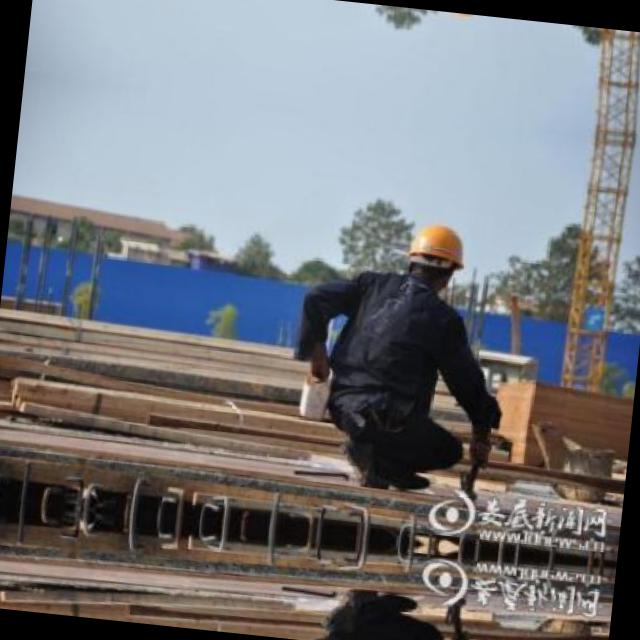helmet: (396, 214, 472, 292)
